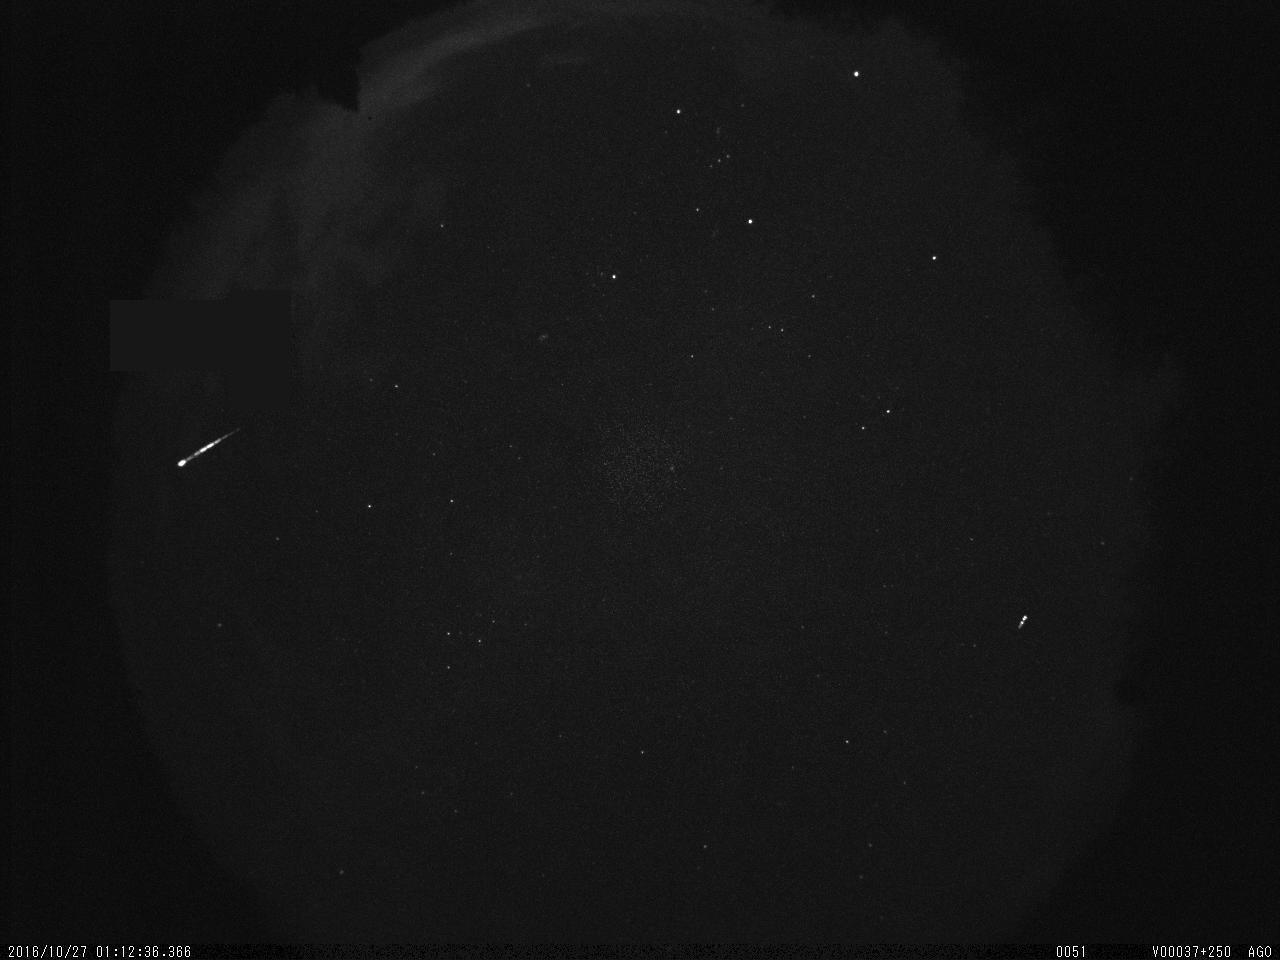Meteor: (174, 424, 243, 467), (1014, 610, 1030, 636)
